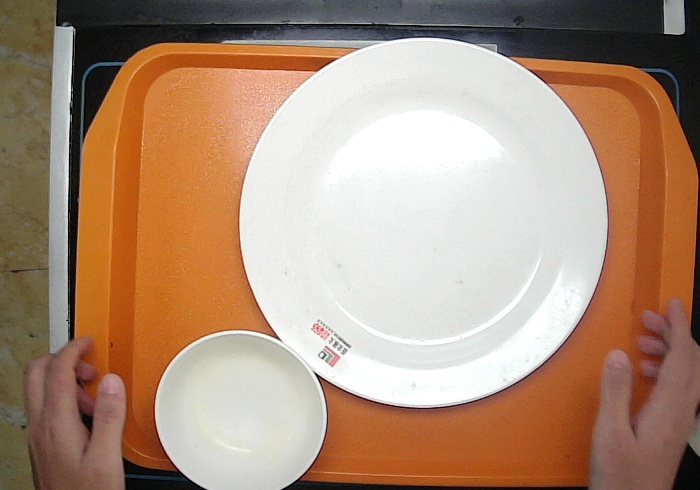ZNLD-Da_Yuan_Pan: (233, 34, 614, 413)
